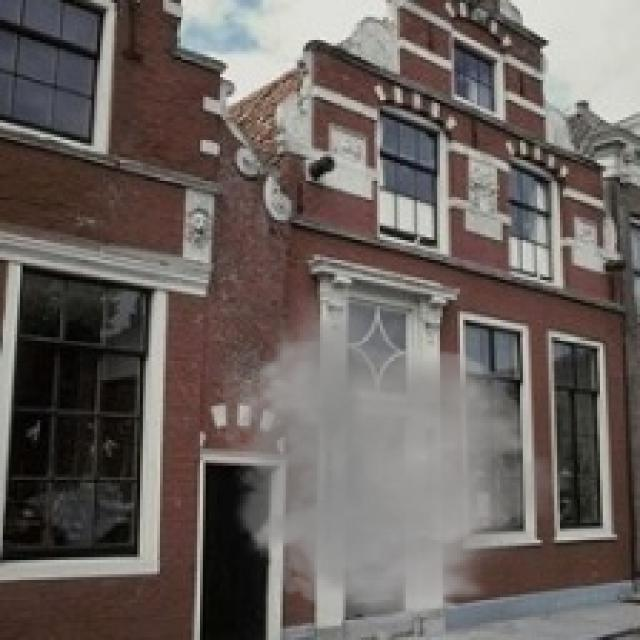smoke: (206, 283, 577, 631)
